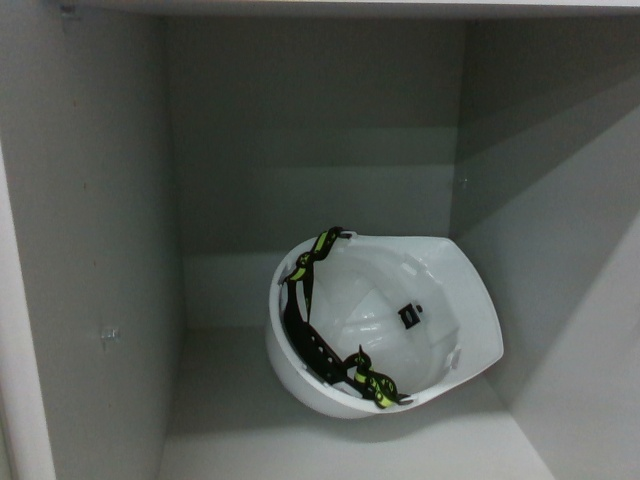helmet: (257, 225, 510, 426)
